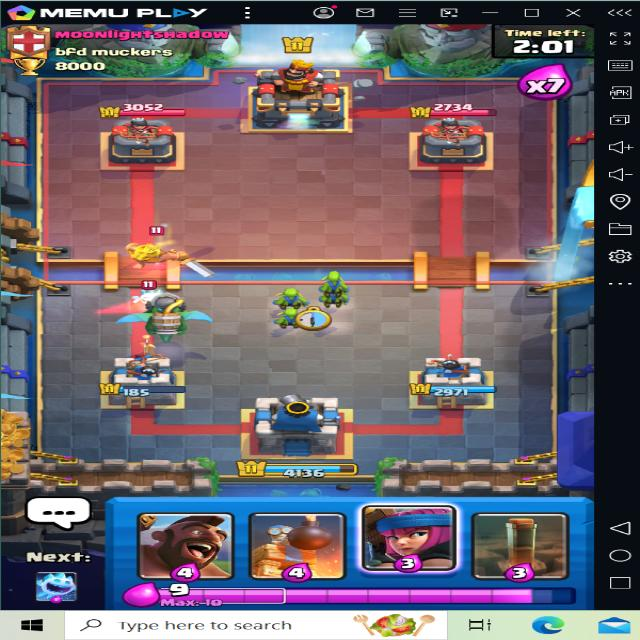Goldenknight: (121, 226, 215, 280)
Goldenknightability: (120, 231, 212, 283)
Icespirit: (130, 279, 168, 305)
